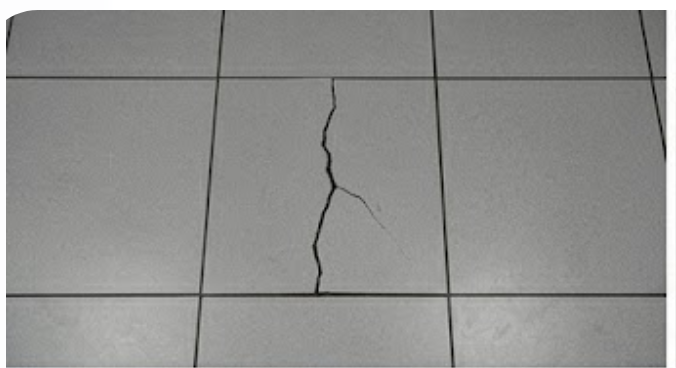floor_defect: (301, 74, 382, 297)
